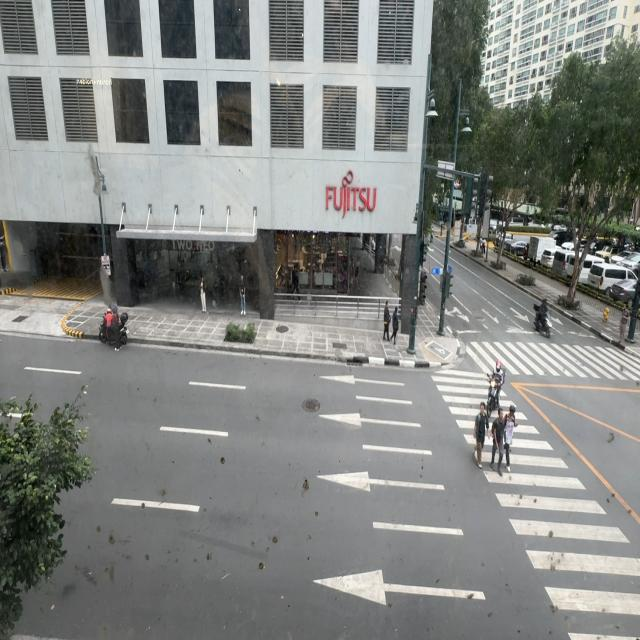crossing: (469, 396, 490, 466), (491, 408, 508, 476), (503, 405, 518, 467), (504, 395, 516, 464)
pedestrain: (380, 295, 394, 348), (381, 300, 395, 344), (390, 307, 399, 345)
waiting: (618, 303, 630, 348)
